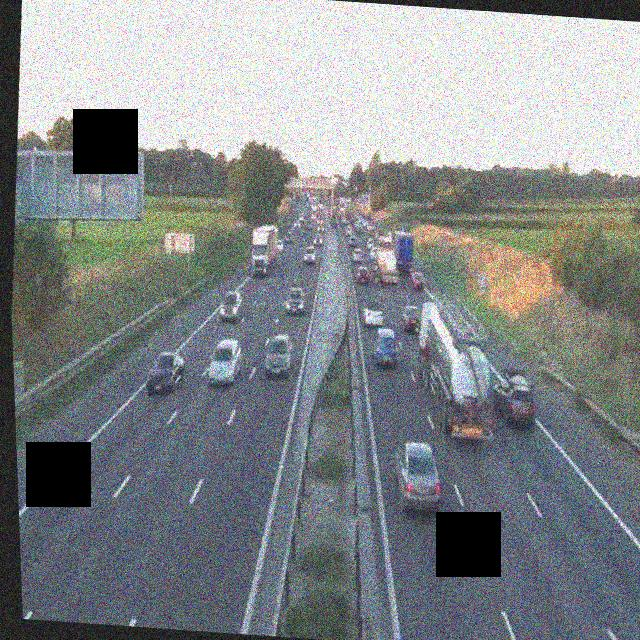car: (392, 439, 444, 513), (490, 370, 539, 426), (146, 350, 187, 396), (205, 338, 243, 386), (262, 332, 294, 376), (370, 326, 401, 368), (218, 288, 244, 322), (283, 286, 305, 314), (400, 304, 421, 333), (362, 306, 383, 330), (410, 269, 426, 290), (356, 263, 372, 284), (302, 246, 316, 265), (351, 248, 363, 264), (277, 234, 288, 249), (313, 232, 323, 246)
truck: (410, 300, 502, 441), (248, 224, 280, 278), (371, 238, 399, 284), (392, 230, 416, 272)
